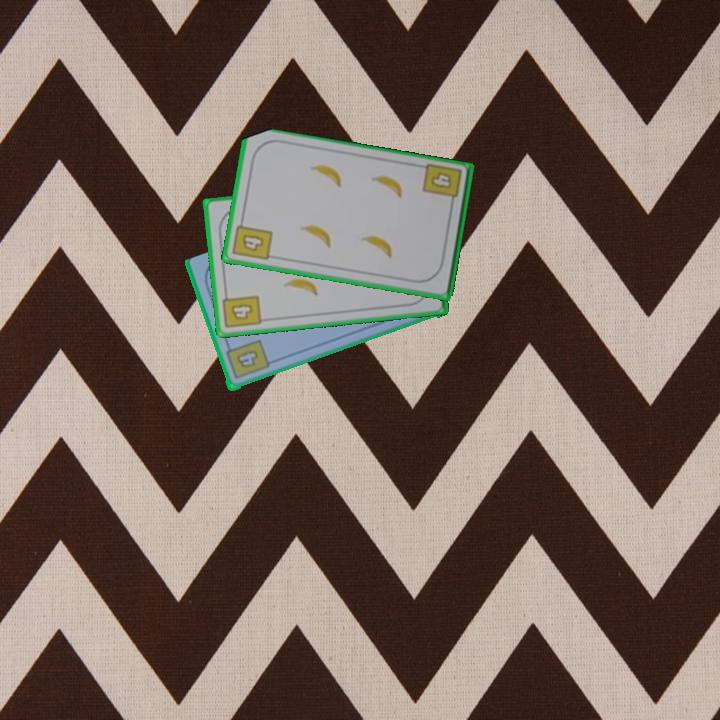4b: (222, 336, 272, 383), (419, 161, 465, 210), (229, 216, 275, 263), (220, 288, 264, 331)
